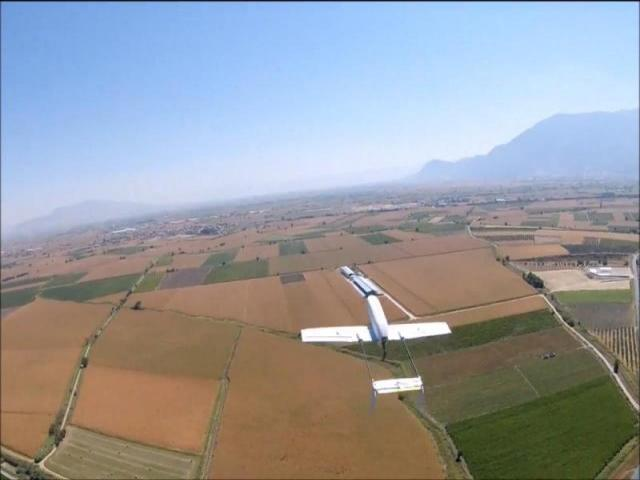hedef: (300, 288, 454, 409)
